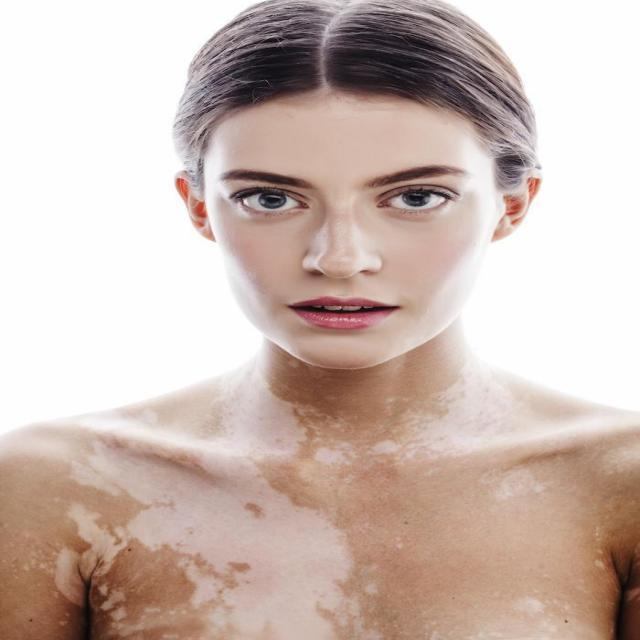vitiligo: (60, 419, 635, 640)
